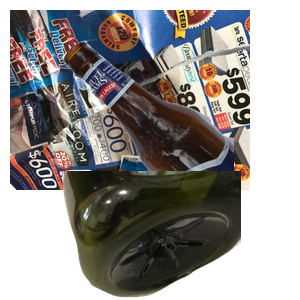glass: (60, 38, 300, 218)
paper: (10, 10, 250, 190)
plastic: (60, 171, 300, 300)
trash: (97, 152, 248, 300)
